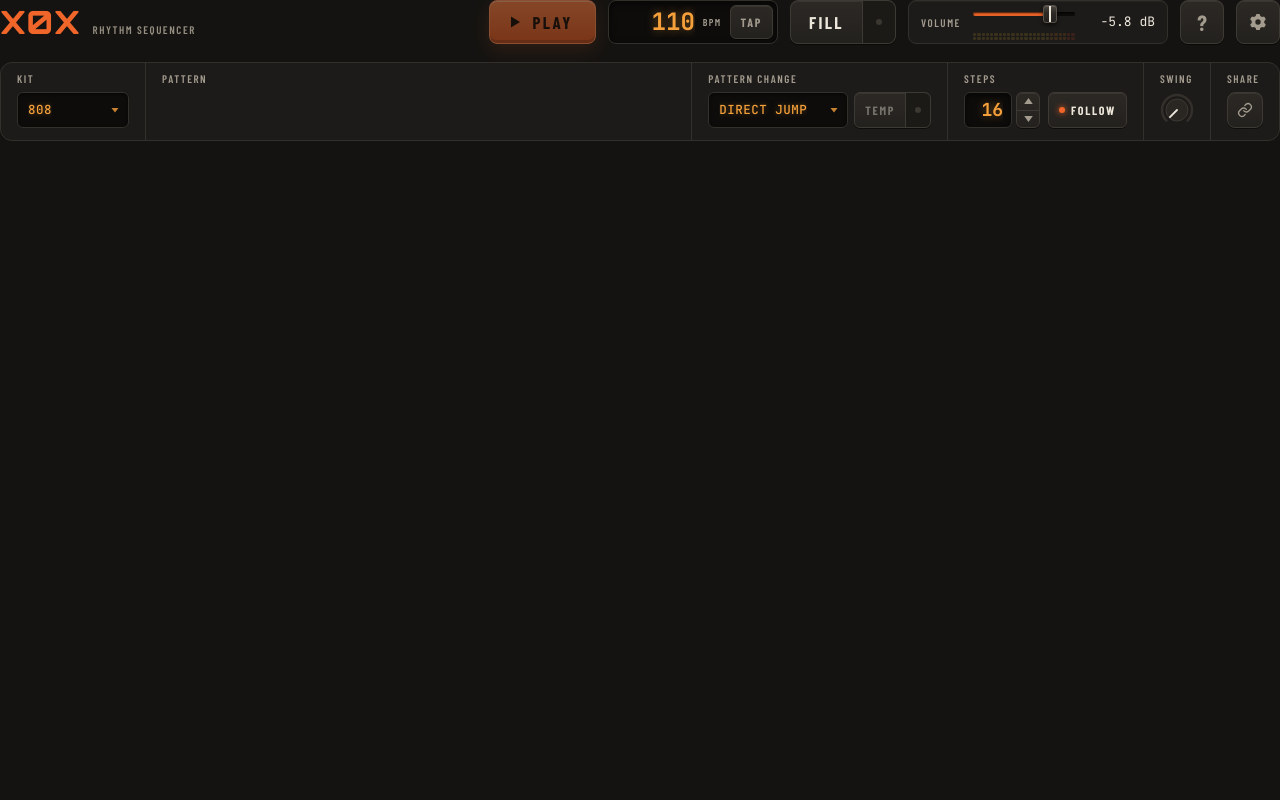
Test case: TransportControls › help key has a label and opens Help
The width and height of the screenshot is (1280, 800).
Step 1. Click the button named "Help and shortcuts" → point(1202, 22), box x1=1180 y1=0 x2=1224 y2=44
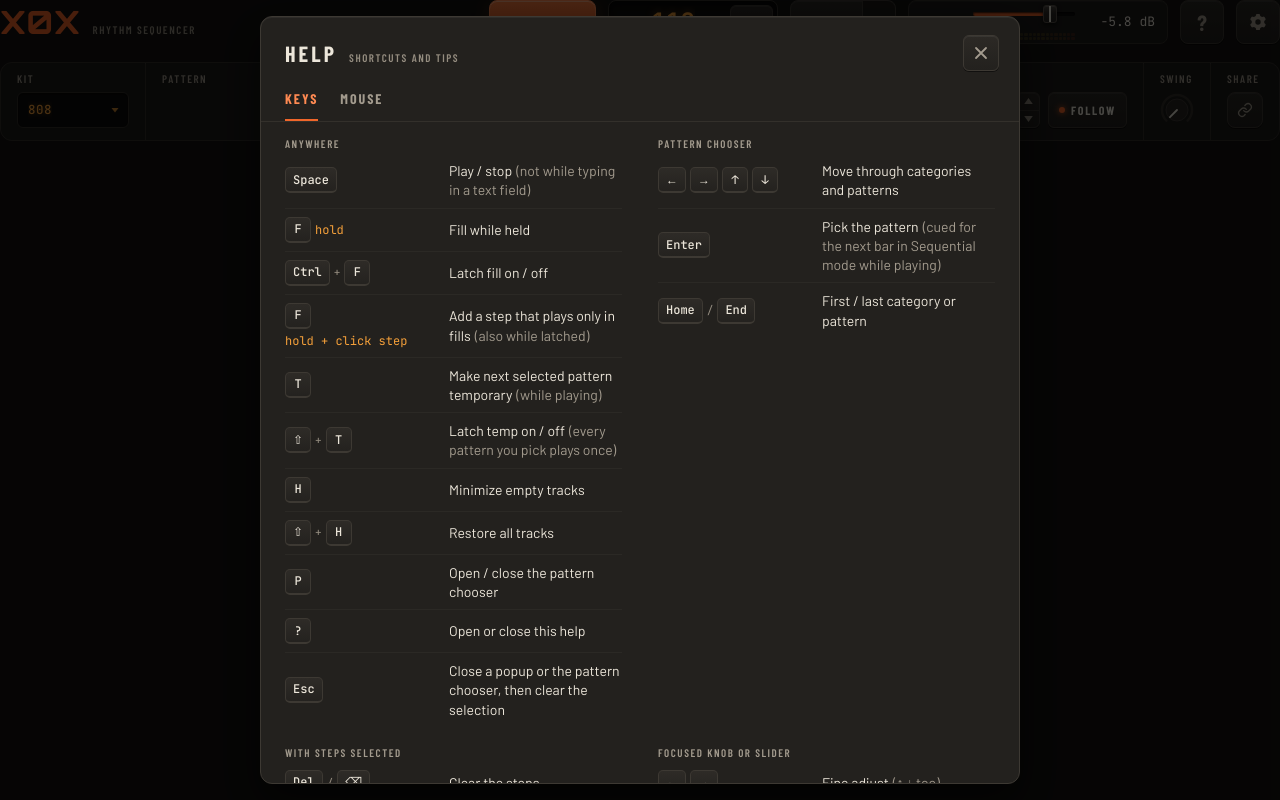
Expected: the heading "Help" is shown, x1=285 y1=36 x2=337 y2=70
